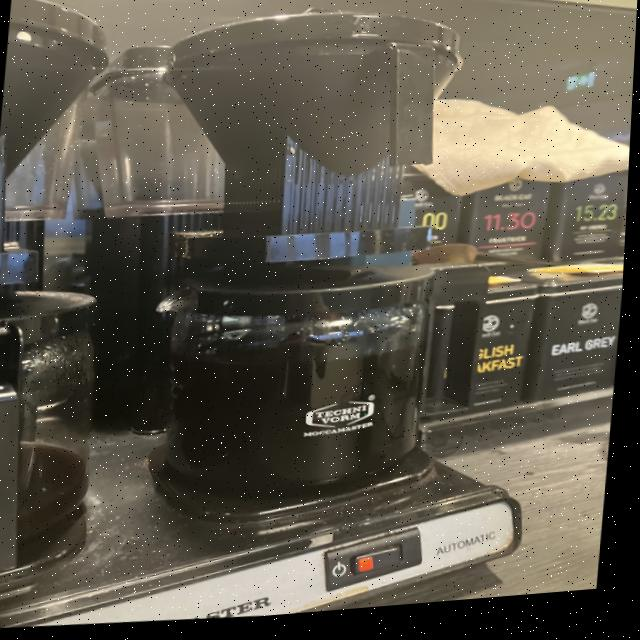coffee: (147, 259, 455, 517)
